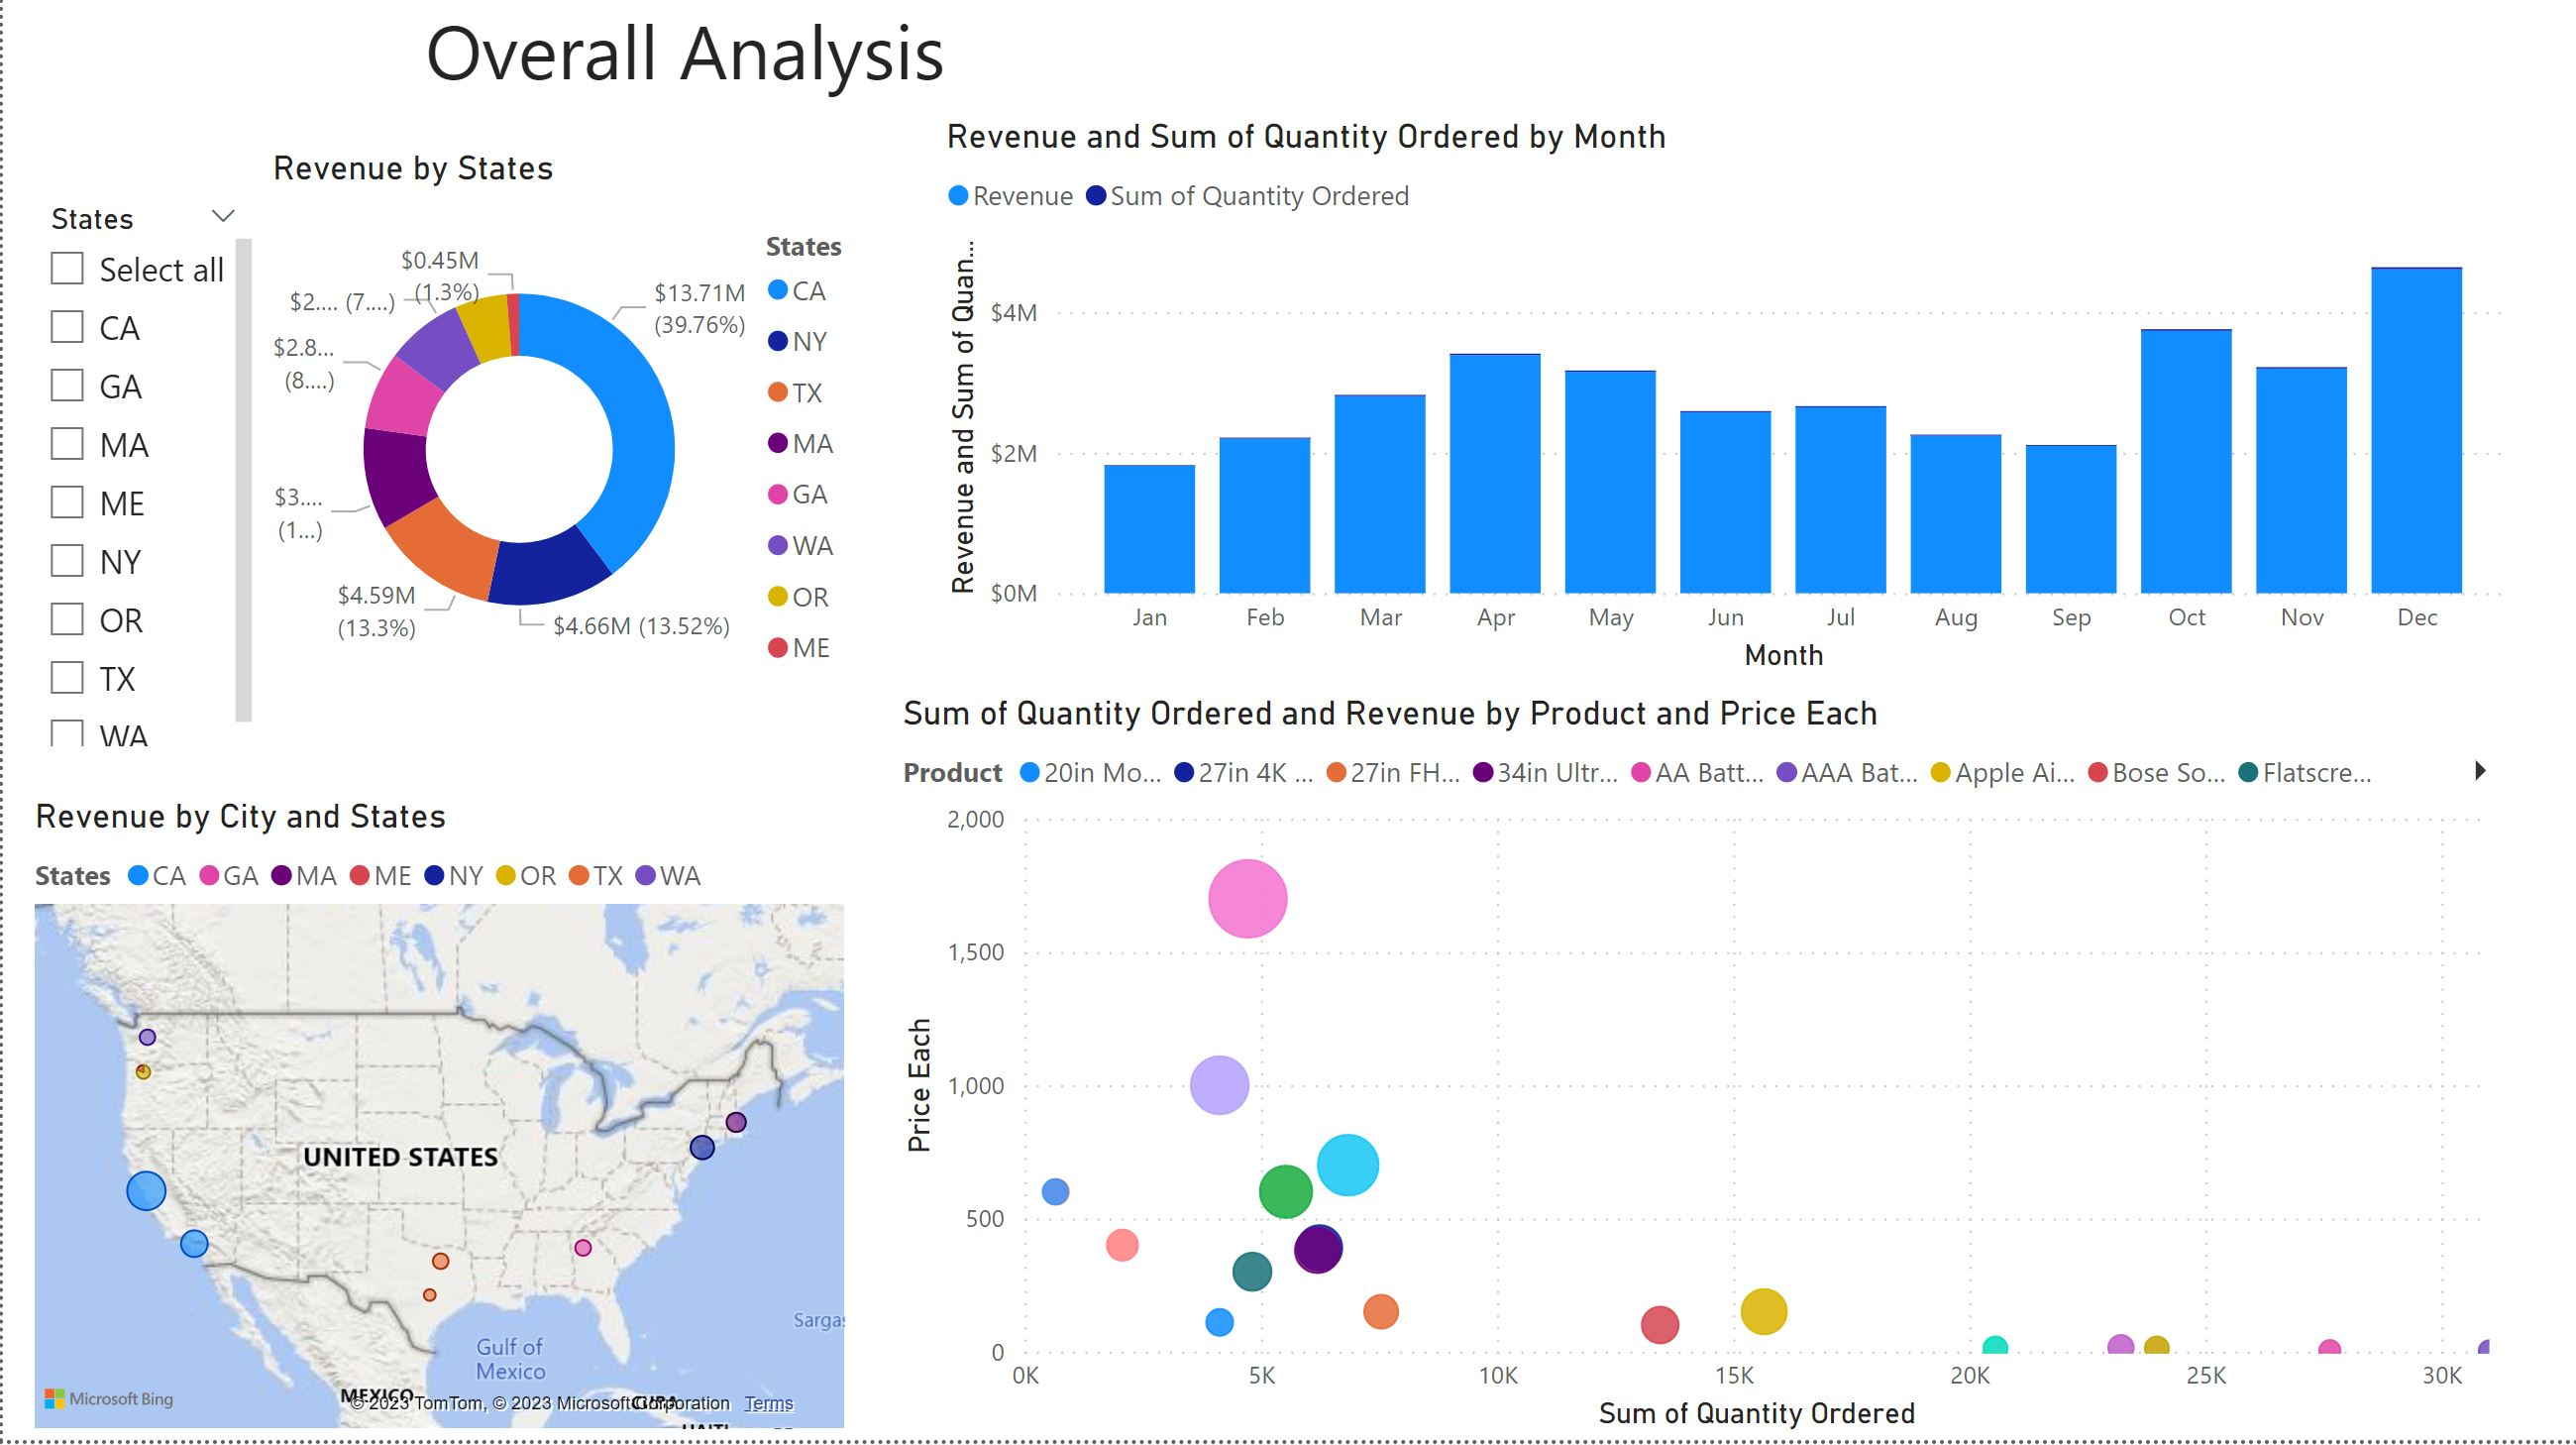

The dashboard page shown, as its layout file describes it:
{"tool":"powerbi","page":{"name":"Overview","canvas":[1280,720],"ordinal":0},"visuals":[{"type":"map","fields":{"Category":["sales_data.City"],"Size":["sales_data.Revenue"],"Series":["sales_data.States"]},"box":[11.2,401.2,411.2,318.8],"z":0},{"type":"scatterChart","fields":{"Y":["sales_data.Price Each"],"Series":["sales_data.Product"],"Size":["sales_data.Revenue"],"X":["Sum(sales_data.Quantity Ordered)"]},"box":[441.2,350,806.2,370],"z":1000},{"type":"slicer","fields":{"Values":["sales_data.States"]},"box":[10.8,100.8,117.5,280],"z":2000},{"type":"columnChart","fields":{"Category":["Date.Month"],"Y":["sales_data.Revenue","Sum(sales_data.Quantity Ordered)"]},"box":[462.5,63.8,785,280],"z":3000},{"type":"textbox","box":[170,0,336.7,64.2],"z":4000},{"type":"donutChart","fields":{"Y":["sales_data.Revenue"],"Category":["sales_data.States"]},"box":[128.8,80,312.5,280],"z":5000}]}

Visuals, with their boxes in screenshot pixels (x1, y1, x2, y2), scaled from the page's 1280x720 canvas onto the 2576x1445 screenshot:
map - sales_data.City x sales_data.Revenue: (23,805,850,1444)
scatterChart - sales_data.Price Each x sales_data.Product: (888,703,2511,1444)
slicer - sales_data.States: (22,202,259,764)
columnChart - Date.Month x sales_data.Revenue: (930,128,2511,690)
textbox: (342,0,1020,129)
donutChart - sales_data.Revenue x sales_data.States: (260,161,888,722)
